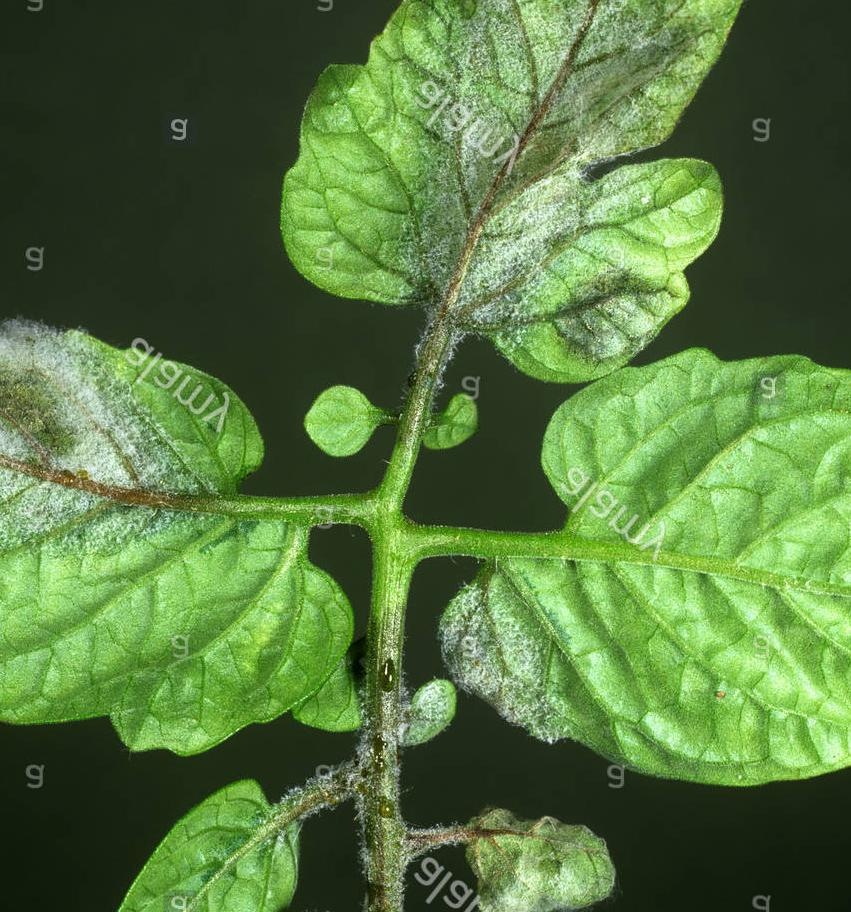Tomato leaf late blight: (425, 327, 851, 805), (0, 297, 392, 777), (280, 0, 759, 377)
